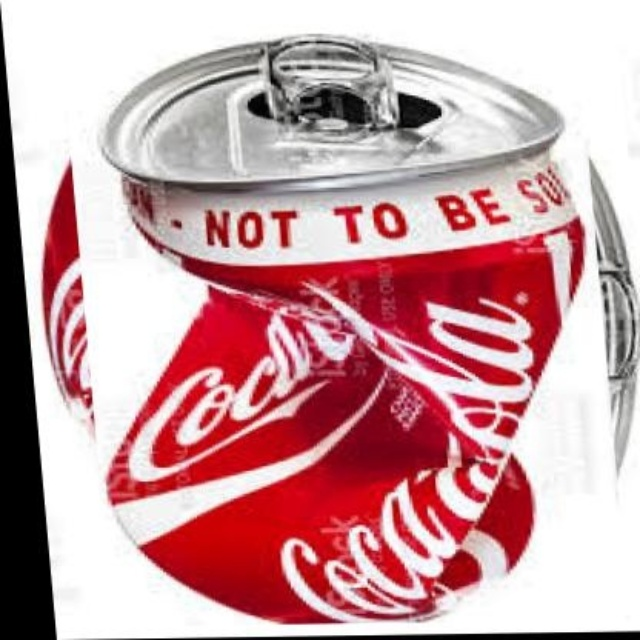trash: (80, 35, 635, 622)
